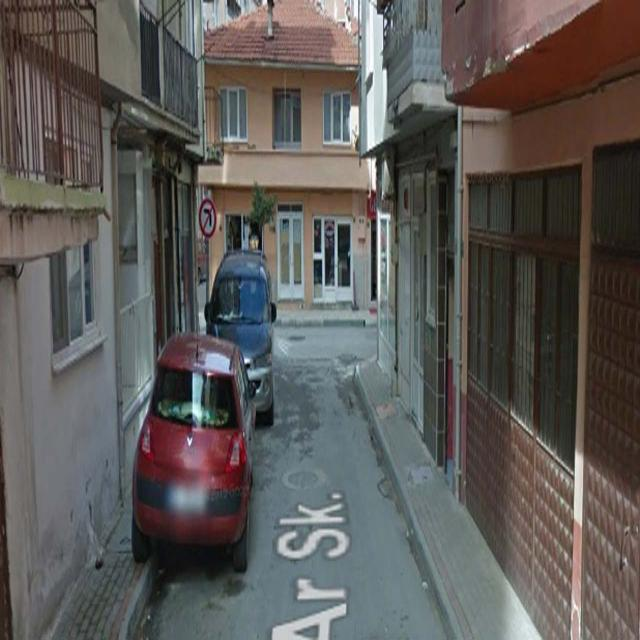soladonulmez: (198, 198, 216, 238)
